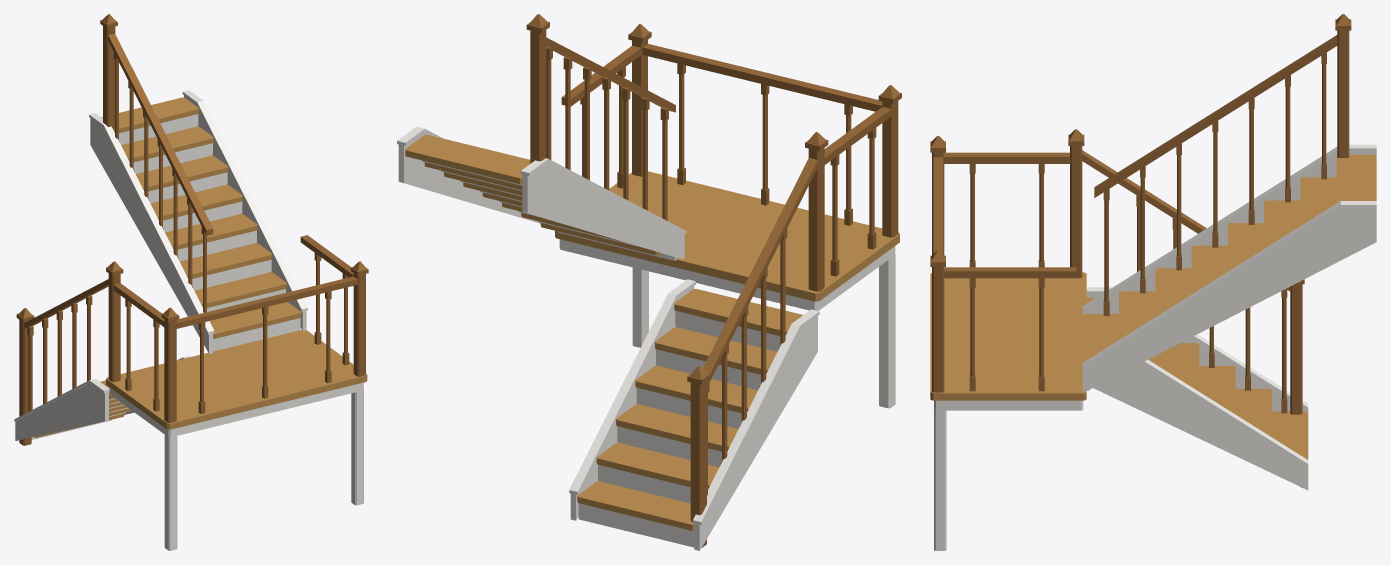
File: SM_LPI_Stair_HalfTurn_01.fbx
3 renders of one model, left to right at view 1: azimuth 30°, elevation 25°; view 2: azimuth 150°, elevation 25°; view 3: azimuth 270°, elevation 25°, orthographic. The views are drawn at different scales.
Parts seen in each view (by area): view 1: SM_LPI_Stair_HalfTurn_01; view 2: SM_LPI_Stair_HalfTurn_01; view 3: SM_LPI_Stair_HalfTurn_01.
Boxes of the visible parts, x1=… form: SM_LPI_Stair_HalfTurn_01: x1=14, y1=14, x2=368, y2=550; SM_LPI_Stair_HalfTurn_01: x1=397, y1=14, x2=901, y2=550; SM_LPI_Stair_HalfTurn_01: x1=930, y1=14, x2=1376, y2=550.
Size of the model in its own units: 2.07 by 3.82 by 3.2.
